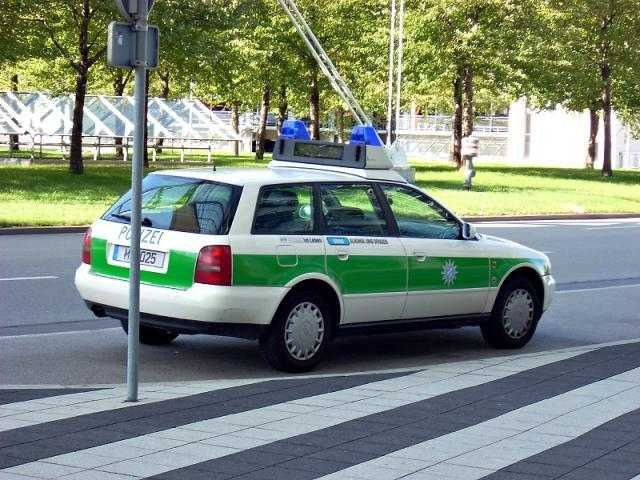Police Car: (83, 112, 595, 398)
